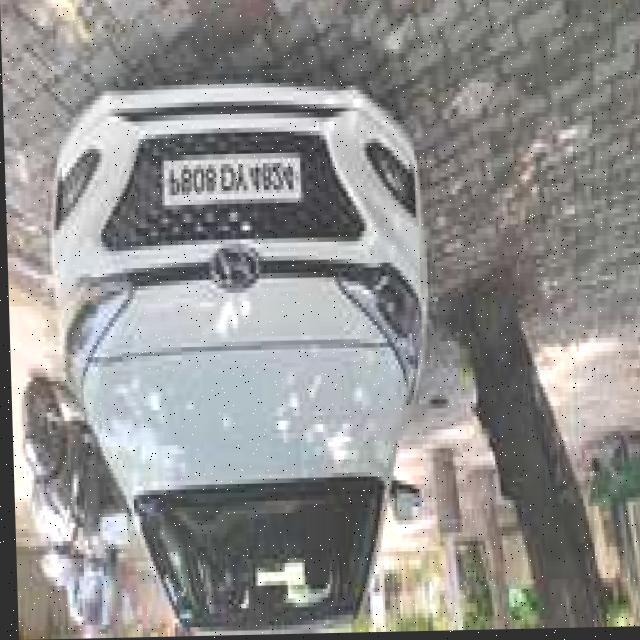plate: (159, 150, 302, 213)
